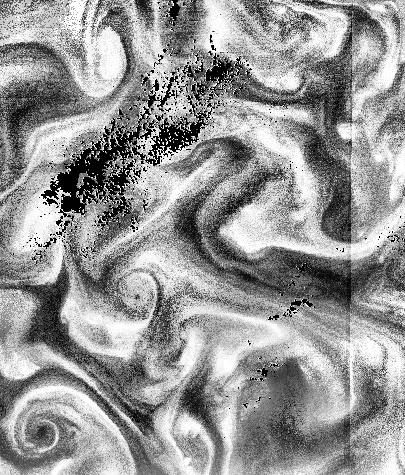CE: (2, 381, 80, 462), (80, 19, 143, 93), (107, 268, 162, 324)
